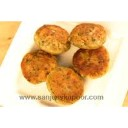cutlet: (48, 66, 81, 102), (73, 47, 112, 77), (71, 24, 111, 48), (36, 26, 70, 54), (23, 53, 56, 81)
